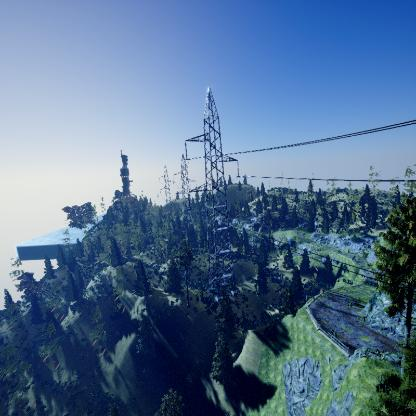tower: (181, 86, 245, 304)
